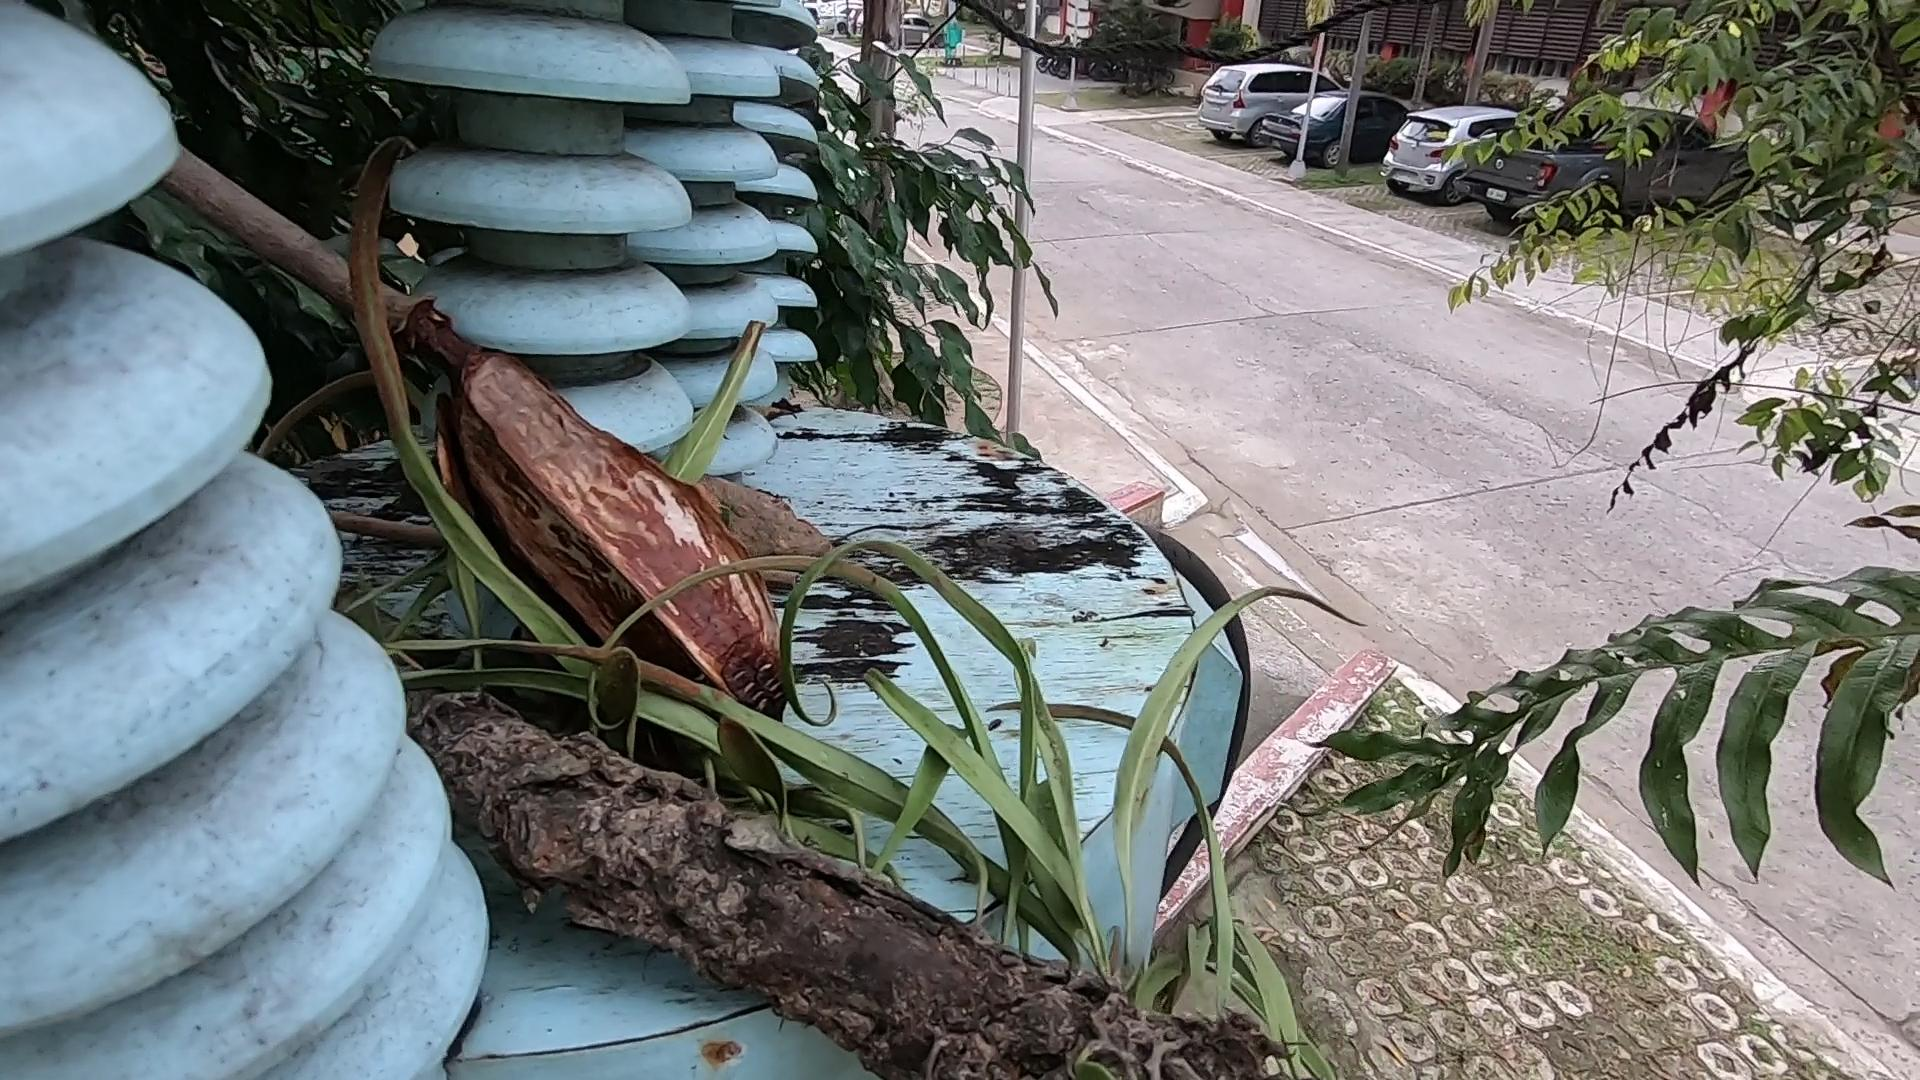branch with leaves: (357, 556, 1176, 1080)
mahogany fruit: (396, 334, 758, 696)
tree branch: (135, 92, 458, 351)
